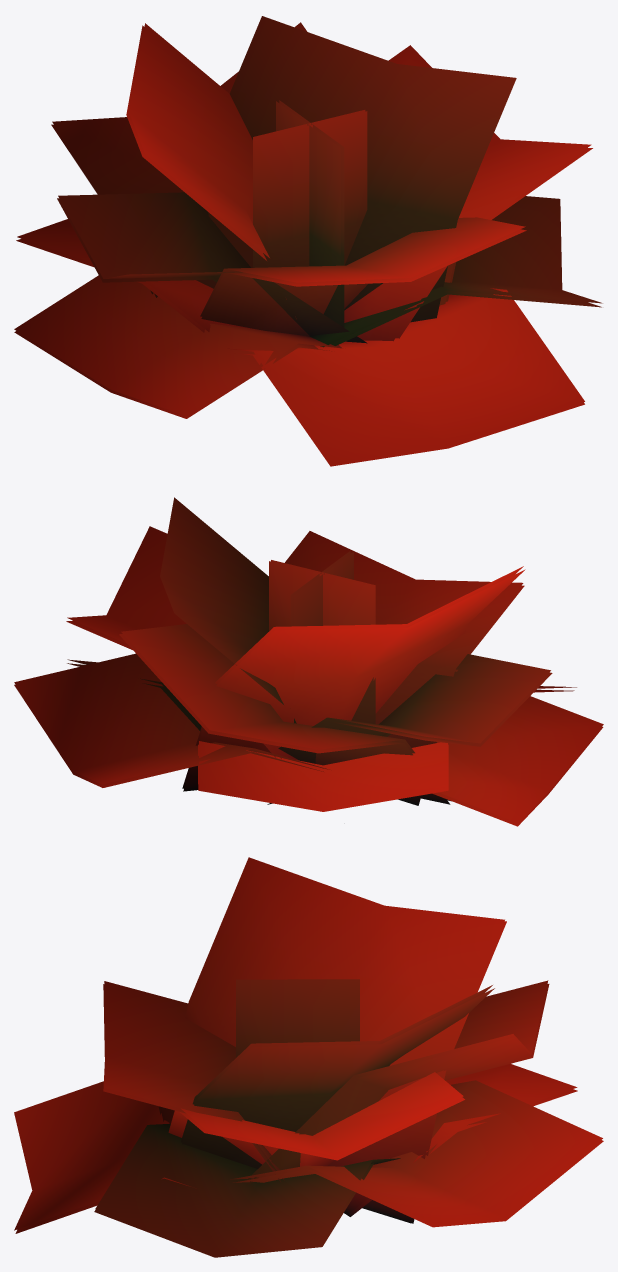
The model's file is TinyW19_high.FBX.
3 renders of one model, top to bottom at view 1: azimuth 30°, elevation 25°; view 2: azimuth 150°, elevation 25°; view 3: azimuth 270°, elevation 25°, orthographic. The views are drawn at different scales.
Parts seen in each view (by area): view 1: TinyW19_high; view 2: TinyW19_high; view 3: TinyW19_high.
Part boxes in pixels (left/top/right/bottom): TinyW19_high: left=14, top=16, right=602, bottom=466; TinyW19_high: left=14, top=497, right=603, bottom=826; TinyW19_high: left=14, top=857, right=603, bottom=1257.
Size of the model in its own units: 0.5932 by 0.2876 by 0.6147.
